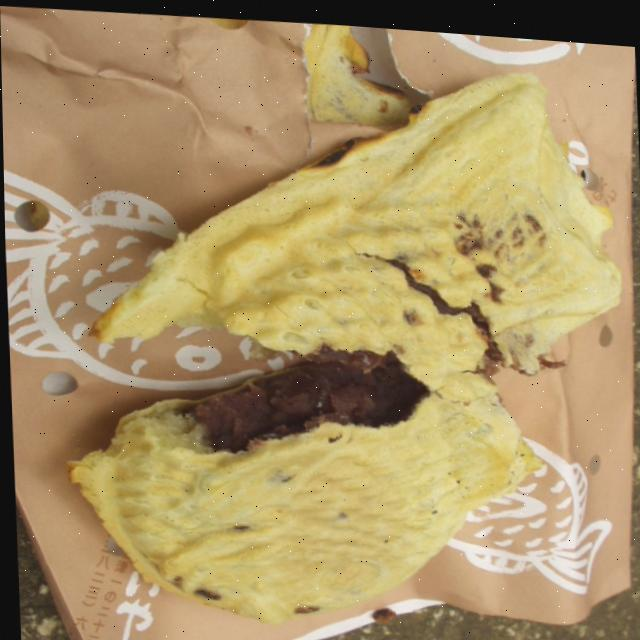熟制海鲜: (57, 27, 635, 640)
